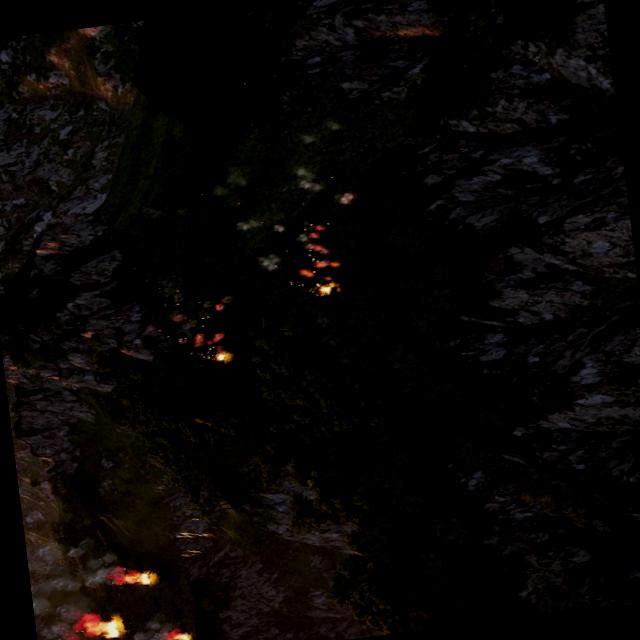fire: (77, 610, 125, 640), (120, 566, 158, 588), (313, 280, 338, 296), (171, 628, 192, 640), (212, 348, 230, 362)
smoke: (24, 528, 130, 640), (170, 298, 237, 348), (288, 218, 340, 277), (123, 615, 180, 640)
